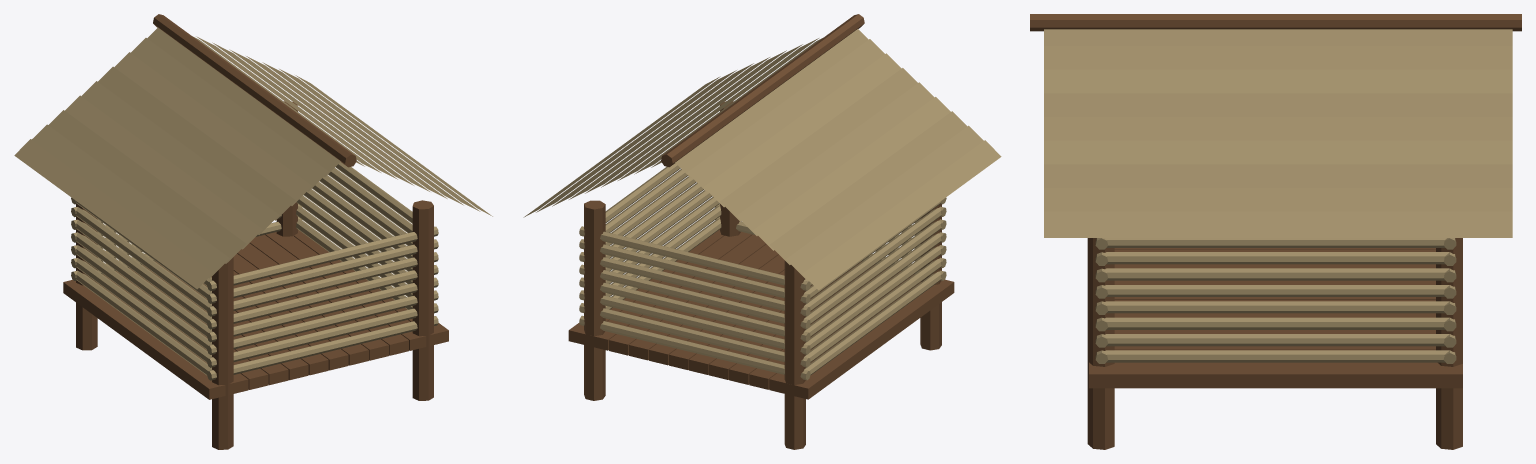
File: raised_store.glb
3 renders of one model, left to right at view 1: azimuth 30°, elevation 25°; view 2: azimuth 150°, elevation 25°; view 3: azimuth 270°, elevation 25°, orthographic. The views are drawn at different scales.
Parts seen in each view (by area): view 1: raised_store; view 2: raised_store; view 3: raised_store.
Boxes of the visible parts, x1,y1,x2,y2 form: raised_store: [14, 14, 492, 449]; raised_store: [523, 14, 1001, 449]; raised_store: [1030, 14, 1521, 449].
Size of the model in its own units: 3.4 by 3.15 by 3.82.
